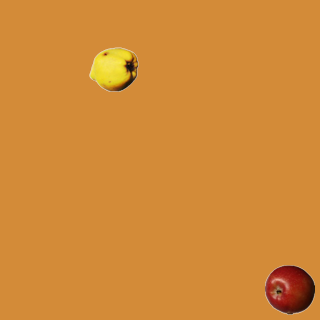Apple Braeburn: (264, 264, 314, 314)
Quince: (88, 44, 138, 94)
